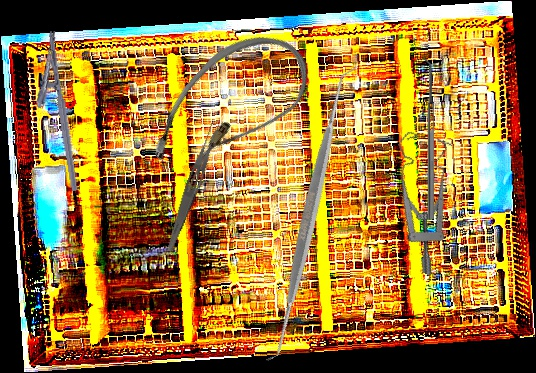Cannula: (136, 11, 324, 203)
Dressing Forceps: (163, 120, 223, 255)
Needle Holder: (25, 30, 80, 195)
Spatula Surgical: (165, 66, 456, 362), (421, 58, 434, 219)
Speculum: (358, 125, 479, 277)
